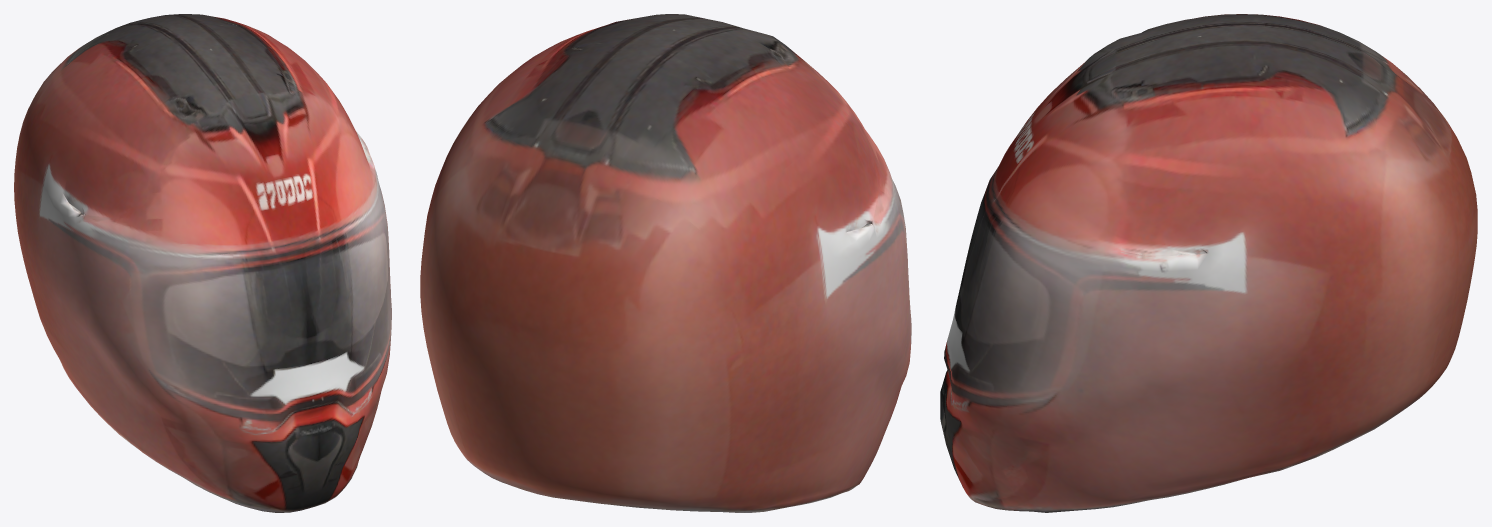
File: Helmet_texture.fbx
The picture shows the model from 3 angles, left to right: view 1: azimuth 30°, elevation 25°; view 2: azimuth 150°, elevation 25°; view 3: azimuth 270°, elevation 25°; orthographic projection. The views are drawn at different scales.
Visible parts, largest first — view 1: Mesh1; view 2: Mesh1; view 3: Mesh1.
Part boxes in pixels (left/top/right/bottom): Mesh1: left=14, top=14, right=391, bottom=512; Mesh1: left=420, top=14, right=911, bottom=512; Mesh1: left=940, top=14, right=1477, bottom=512.
Bounding box in the file's own units: 148 × 189 × 200.
1 material, 1 textured.
